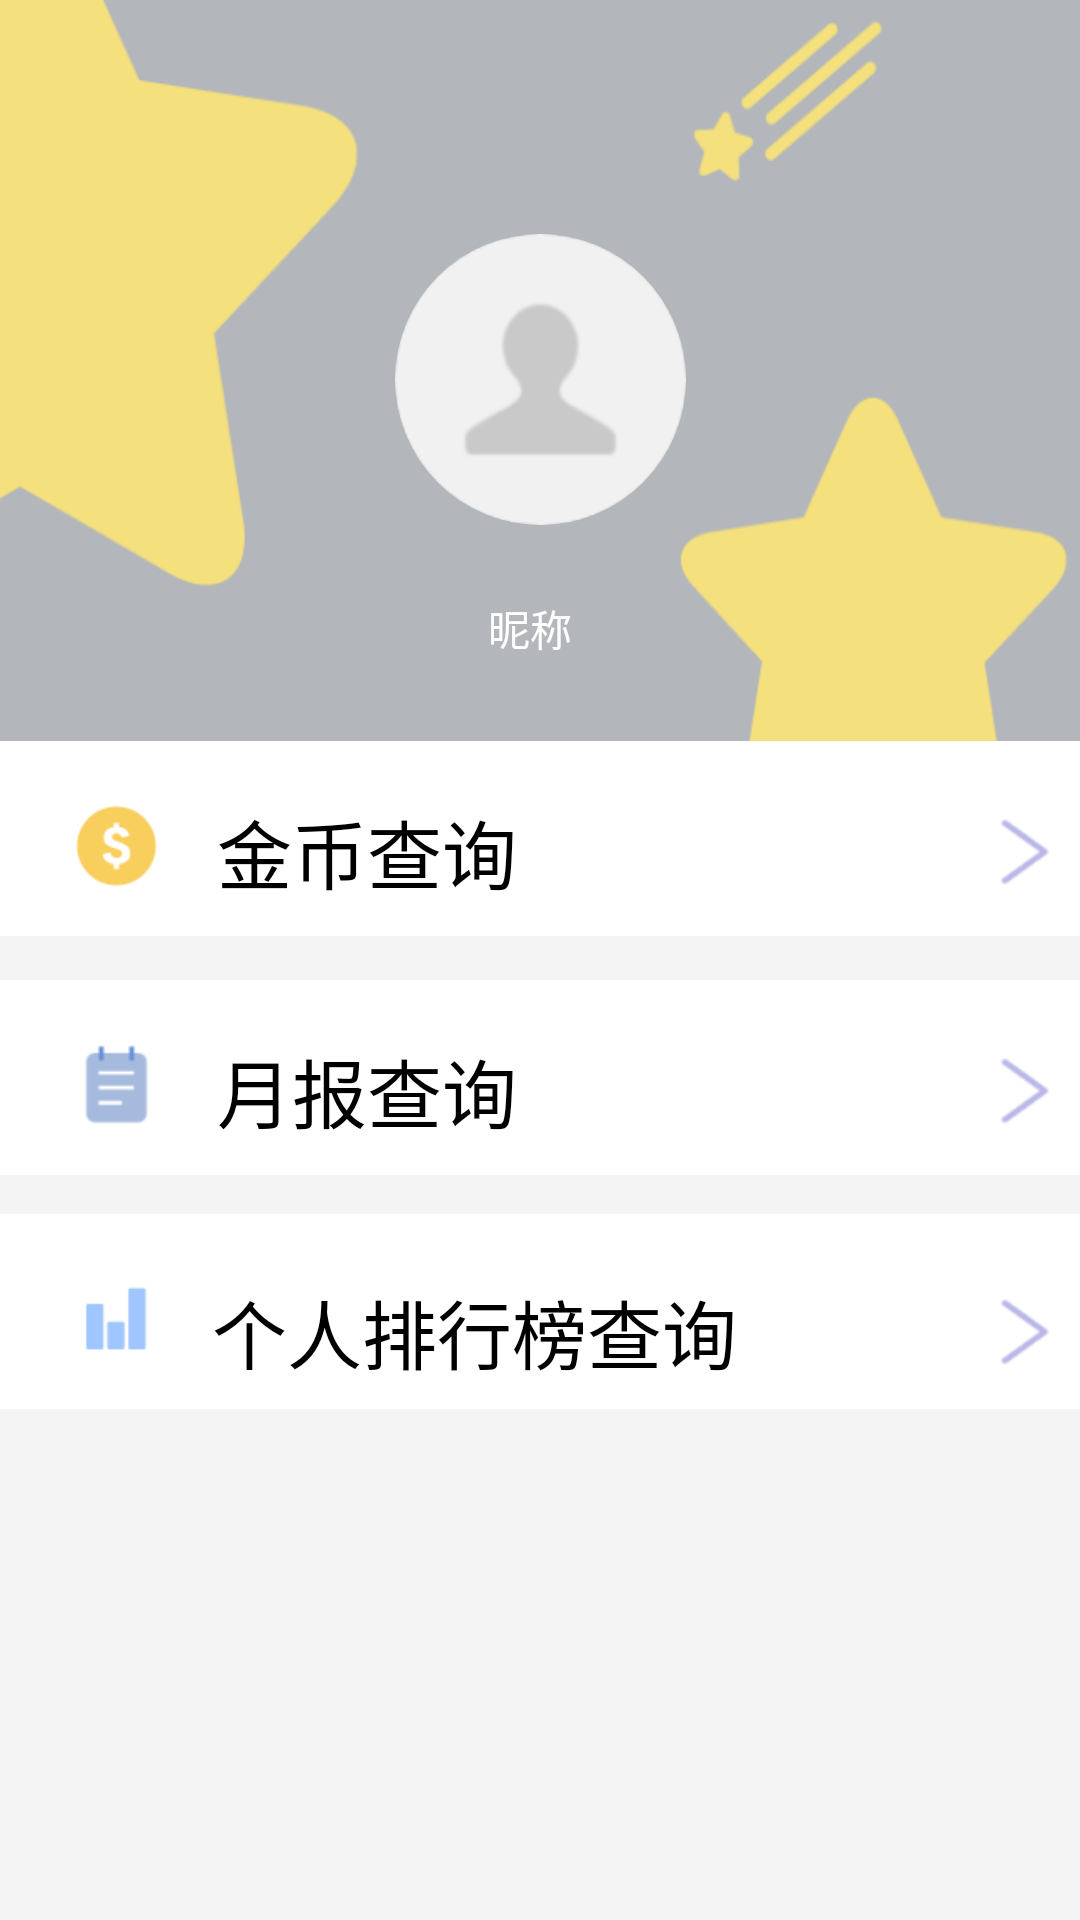

Where to tap for icons on this 1080px×1920px app screen, as (x=x, y=y):
coin: (x=116, y=846)
rank: (x=116, y=1319)
report: (x=116, y=1084)
unfold: (x=1024, y=852), (x=1024, y=1091), (x=1024, y=1332)
user profile: (x=540, y=379)
